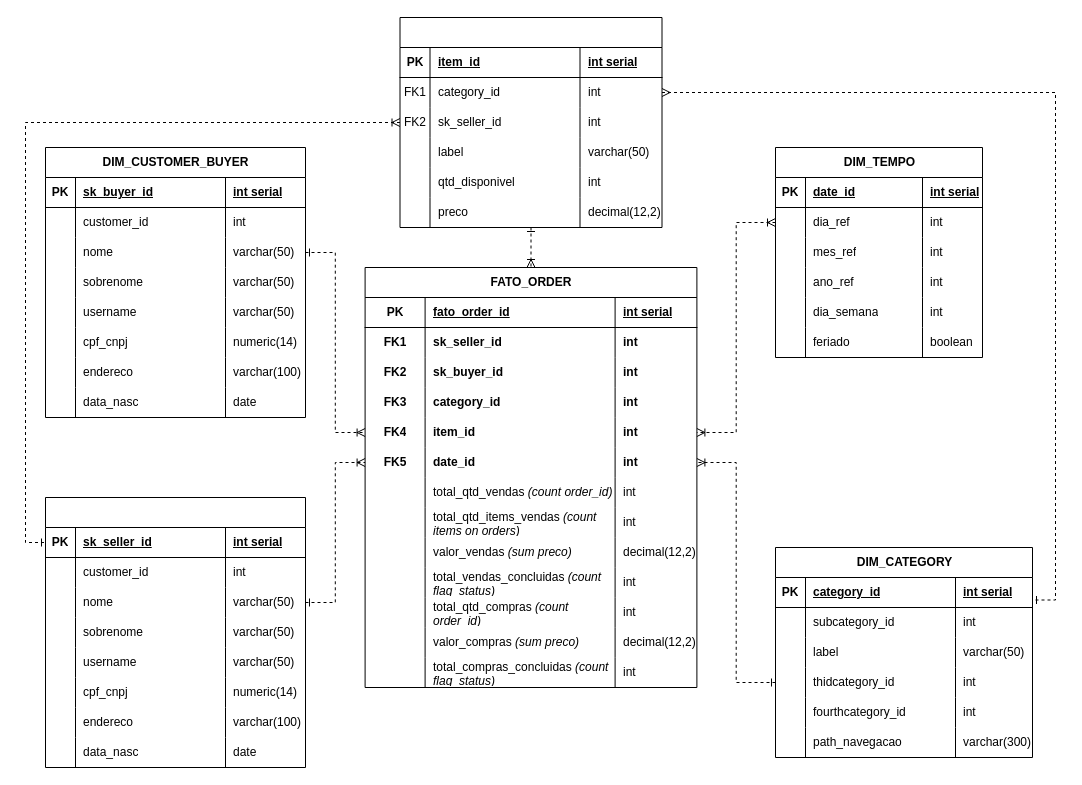
Some shapes in this 1082 by 785 pixel diagram are drawn without their labels. The box of each missing label's shape, as (x1, y1, x2, y2) in pixels:
DIM_CUSTOMER_SELLER: (44, 496, 306, 768)
DIM_ITEM: (399, 16, 662, 228)
